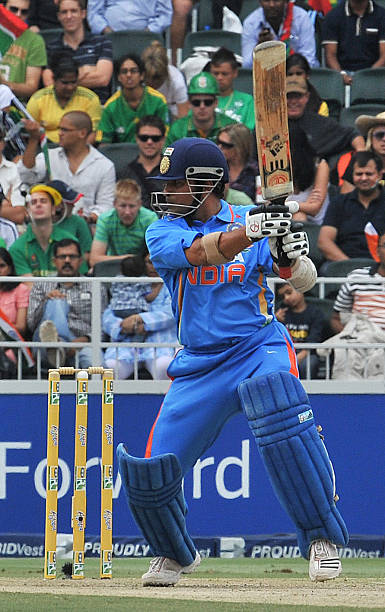bottom left: (273, 35, 293, 57)
bottom right: (245, 43, 267, 61)
top left: (286, 181, 301, 199)
top right: (255, 188, 271, 204)
